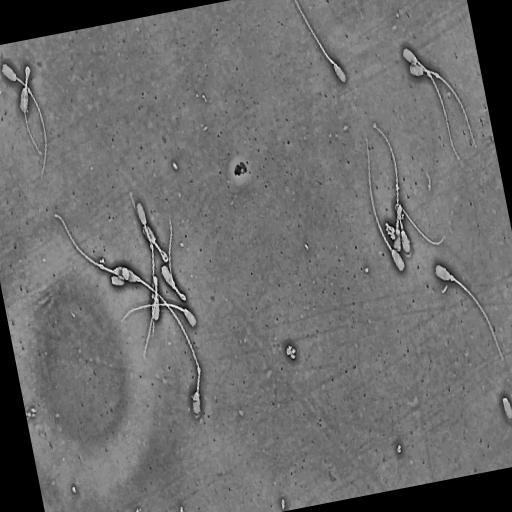dirt-particles: (232, 158, 249, 180), (285, 343, 298, 362), (385, 222, 396, 240)
distal-droplet: (197, 366, 201, 375), (150, 242, 154, 251), (27, 87, 32, 94), (427, 69, 431, 77), (435, 72, 440, 78), (100, 264, 104, 269)
folded-tail: (131, 196, 168, 262), (396, 203, 443, 244), (24, 67, 42, 156), (169, 219, 187, 301), (144, 276, 158, 356)
loose-head: (109, 275, 127, 288), (503, 396, 512, 420)
loose-tail: (434, 310, 439, 322)
normal: (122, 266, 200, 367), (434, 263, 506, 363), (402, 47, 460, 161), (409, 62, 478, 150), (364, 135, 406, 273), (1, 62, 48, 179), (53, 211, 130, 282), (372, 122, 412, 255), (159, 297, 199, 418), (294, 0, 348, 85), (129, 192, 169, 264), (136, 200, 156, 335), (393, 202, 445, 253), (160, 216, 187, 301), (19, 65, 42, 156), (120, 303, 197, 329), (143, 274, 160, 360)
proximal-droplet: (450, 274, 455, 281), (136, 276, 141, 282)
